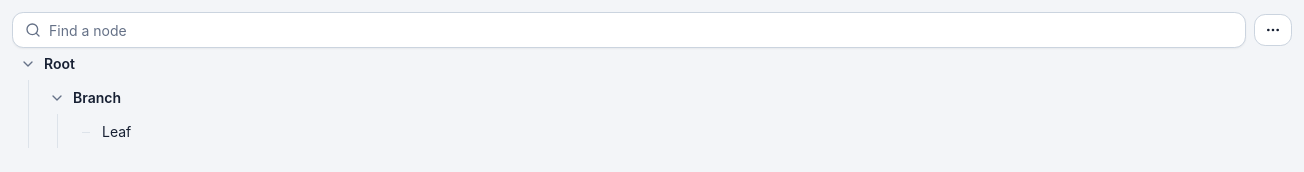
it: TreeControls › disables bulk actions while searching and restores prior collapse state on clear
Click the button named "Collapse Branch": {"x": 57, "y": 98} [41,82,73,114]
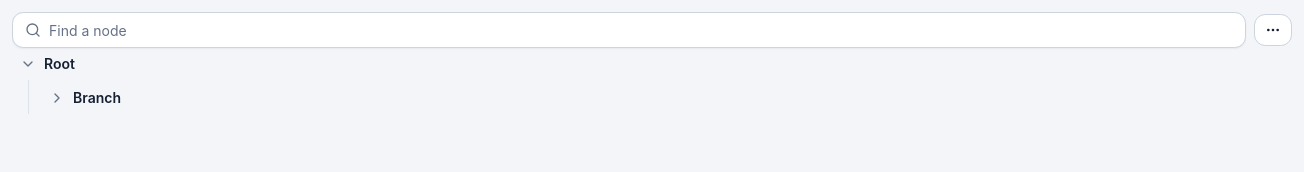
Check: the button "Leaf" is gone
In the search field named "Tree search": {"x": 643, "y": 30} [41,12,1245,48], type "leaf"
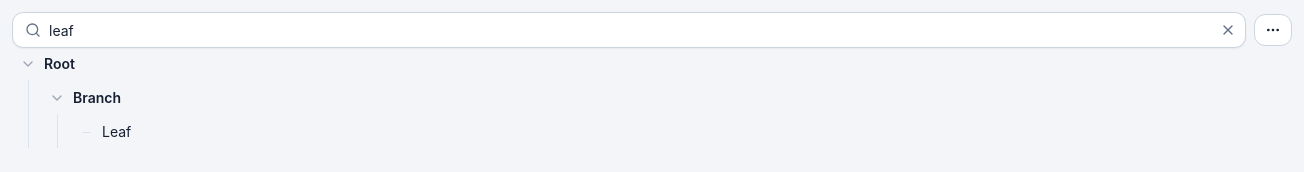
Check: the button "Leaf" is shown, box [102,116,1292,148]
Press Enter in the button named "트리 메뉴 옵션", box [1254,14,1292,46]
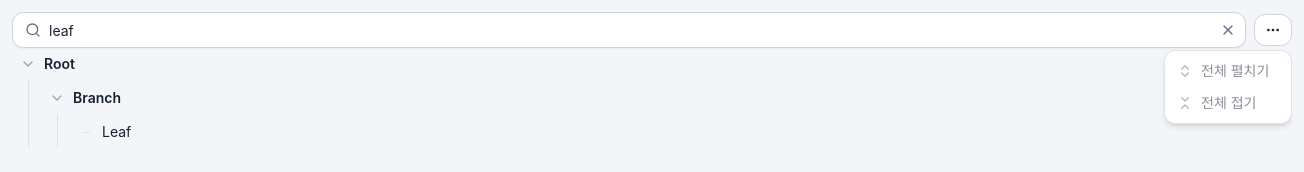
Press Escape
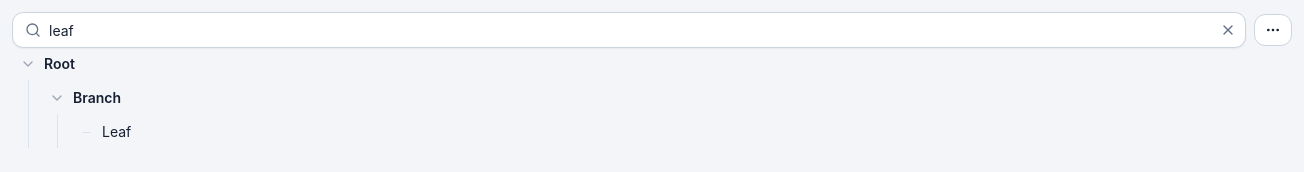
Clear the search field named "Tree search": {"x": 629, "y": 30} [41,12,1216,48]
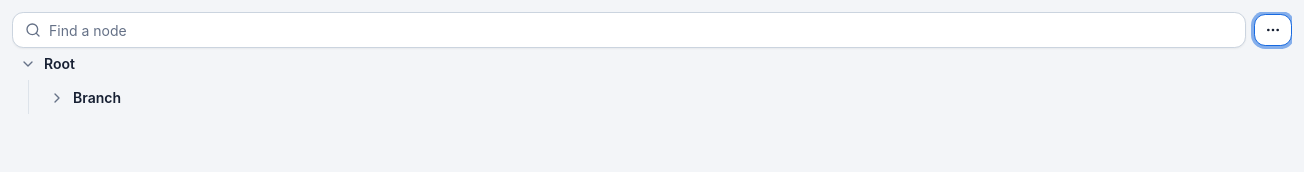
Check: the button named "Expand Branch" is collapsed, box [41,82,73,114]
Check: the button "Leaf" is gone
